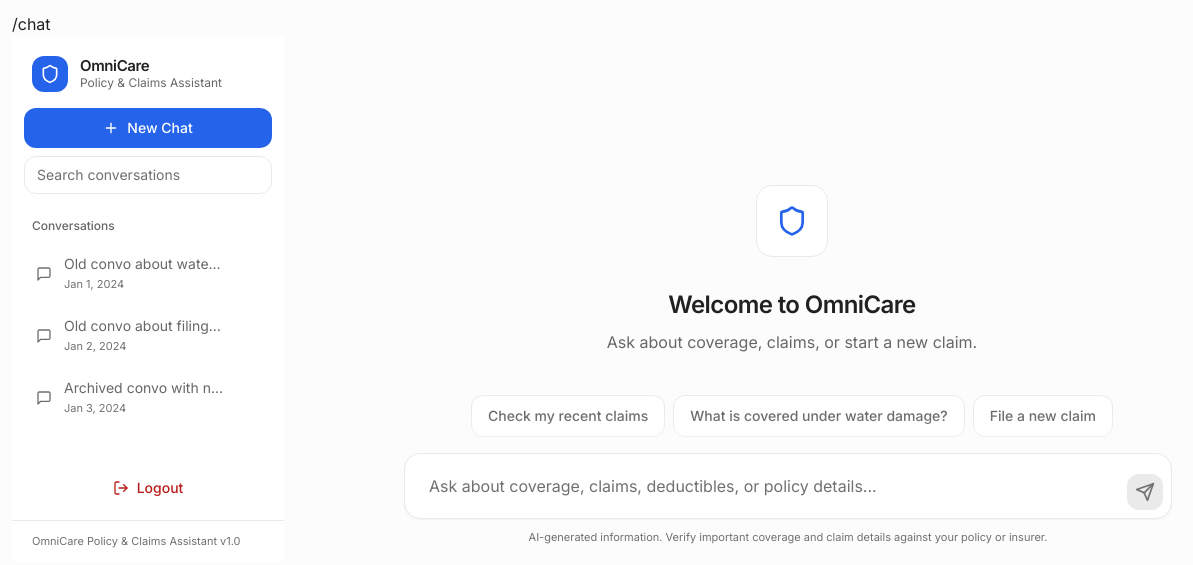
Test case: ChatPage conversation sidebar navigation › swaps the loaded history when a different conversation is clicked
The image size is (1193, 565).
Click the text "Old convo about water damage" at (144, 264), box [64, 254, 224, 274]
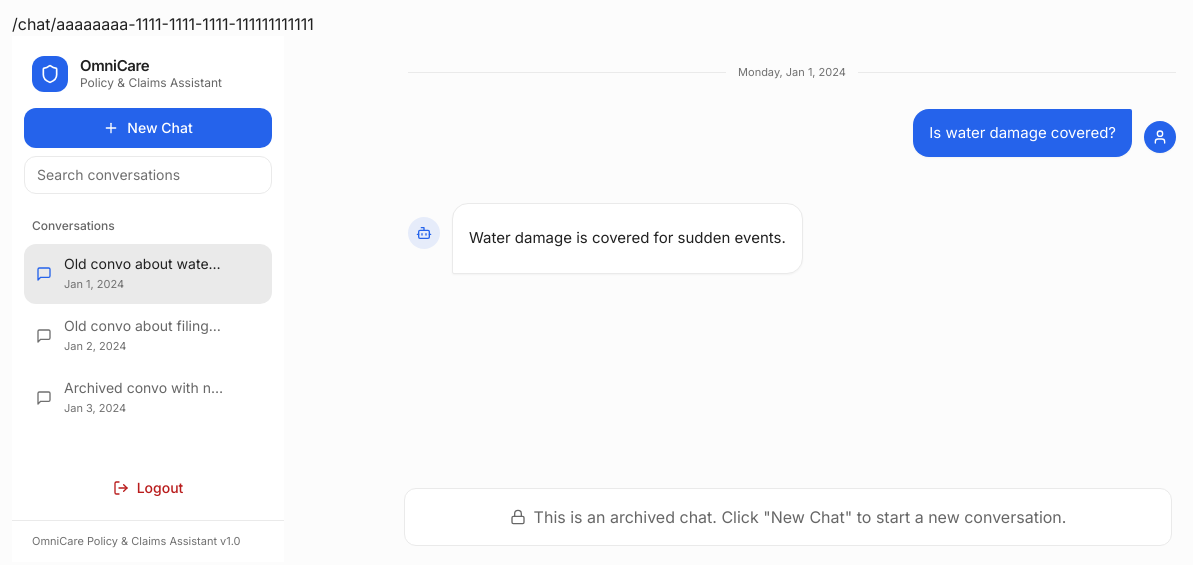
Expected: the text "Is water damage covered?" is shown, [929, 120, 1116, 145]
Click the text "Old convo about filing a claim" at (144, 326), box [64, 316, 224, 336]
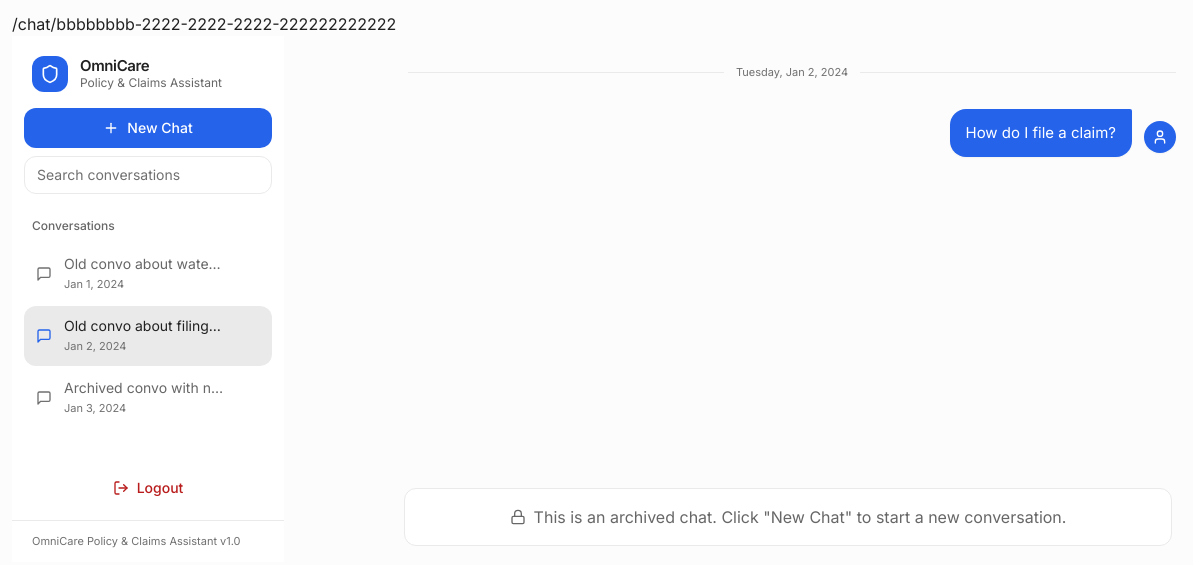
Expected: the text with test id "current-path" reads "/chat/bbbbbbbb-2222-2222-2222-222222222222", [12, 14, 396, 34]
Expected: the text "How do I file a claim?" is shown, [966, 120, 1116, 145]
Expected: the text "Is water damage covered?" is gone
